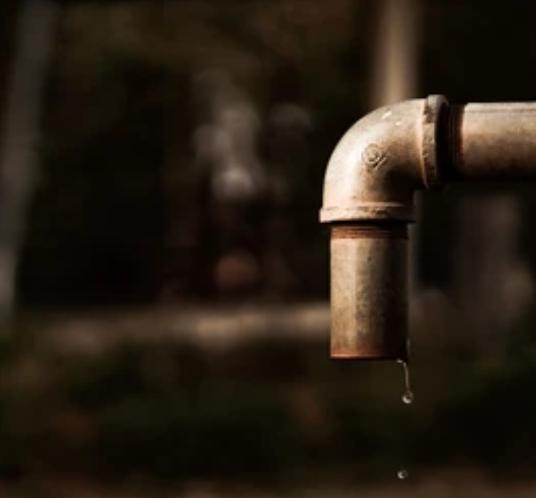water drop: (398, 360, 414, 406), (398, 469, 408, 481)
